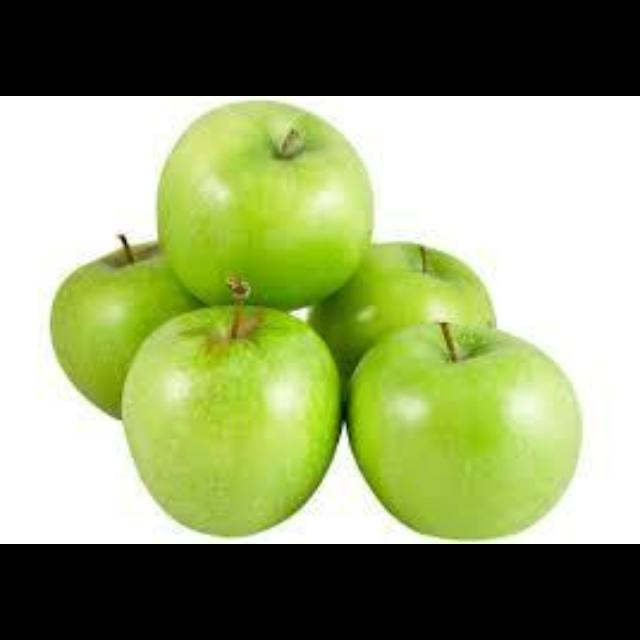apple: (122, 299, 339, 535), (346, 323, 580, 538), (158, 101, 370, 309), (50, 235, 201, 418), (308, 242, 494, 380)
